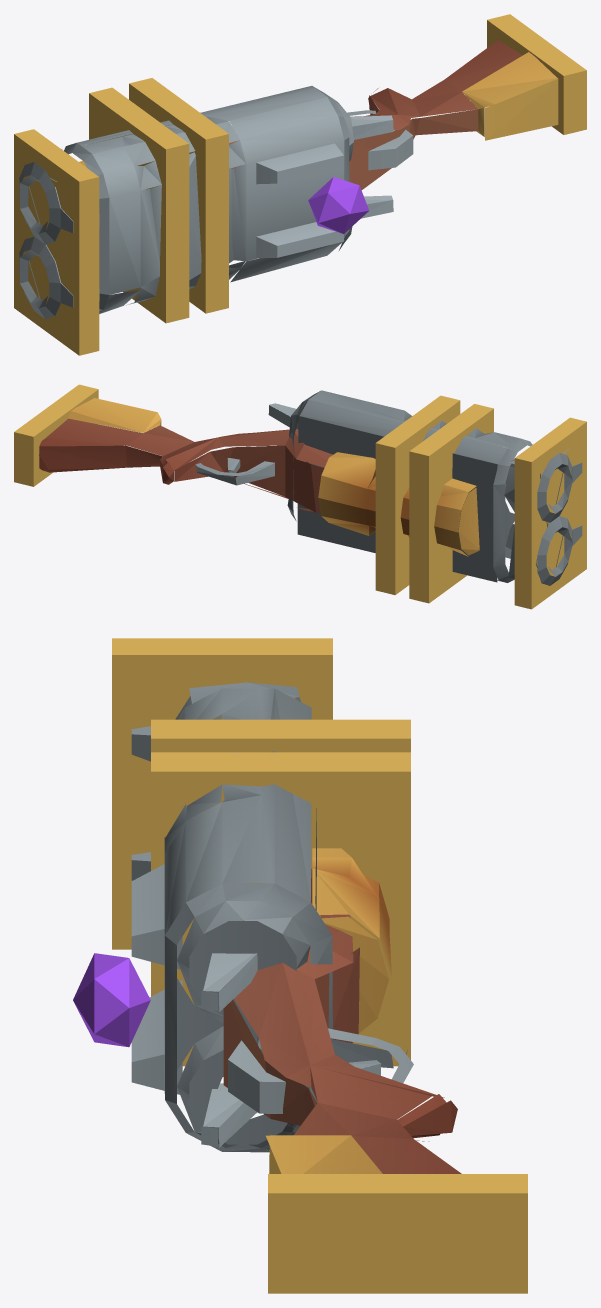
The model's file is engineer_sword_t3_epic.glb.
3 renders of one model, top to bottom at view 1: azimuth 30°, elevation 25°; view 2: azimuth 150°, elevation 25°; view 3: azimuth 270°, elevation 25°, orthographic. The views are drawn at different scales.
Parts seen in each view (by area): view 1: engineer_sword_t3_epic__handslot_r; view 2: engineer_sword_t3_epic__handslot_r; view 3: engineer_sword_t3_epic__handslot_r.
Boxes of the visible parts, left/top/right/bottom form: engineer_sword_t3_epic__handslot_r: left=14, top=14, right=586, bottom=355; engineer_sword_t3_epic__handslot_r: left=14, top=384, right=586, bottom=609; engineer_sword_t3_epic__handslot_r: left=73, top=638, right=527, bottom=1293.
Size of the model in its own units: 1.69 by 0.5 by 0.7.
3 materials, 2 textured.
